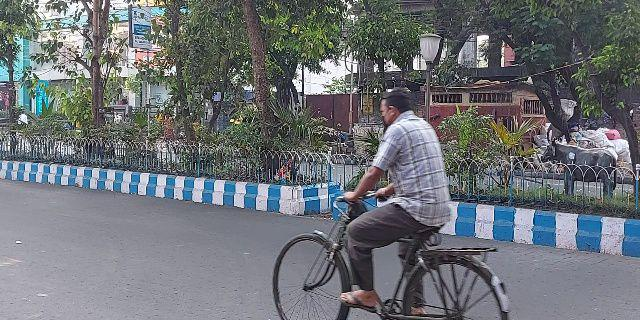Cycle: (269, 89, 520, 320)
